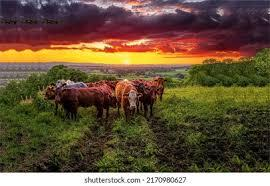cow: (63, 85, 114, 120), (116, 79, 138, 118), (138, 80, 157, 117), (42, 82, 62, 104)
